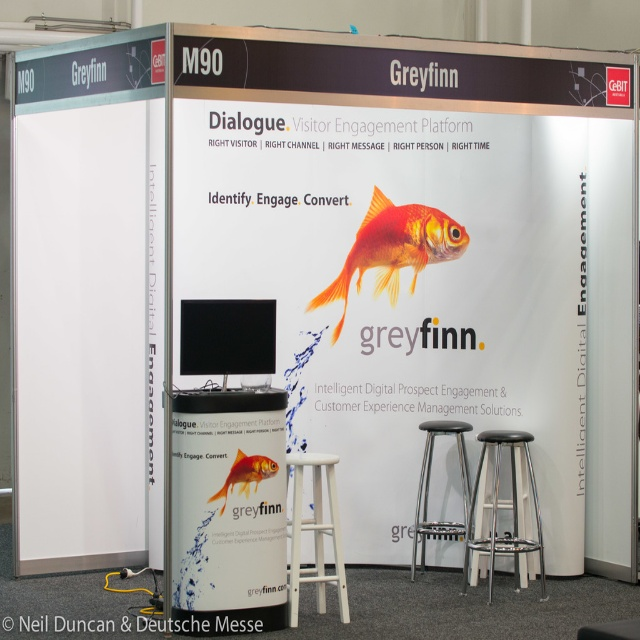Goldfish: (305, 187, 468, 326), (207, 450, 280, 512)
